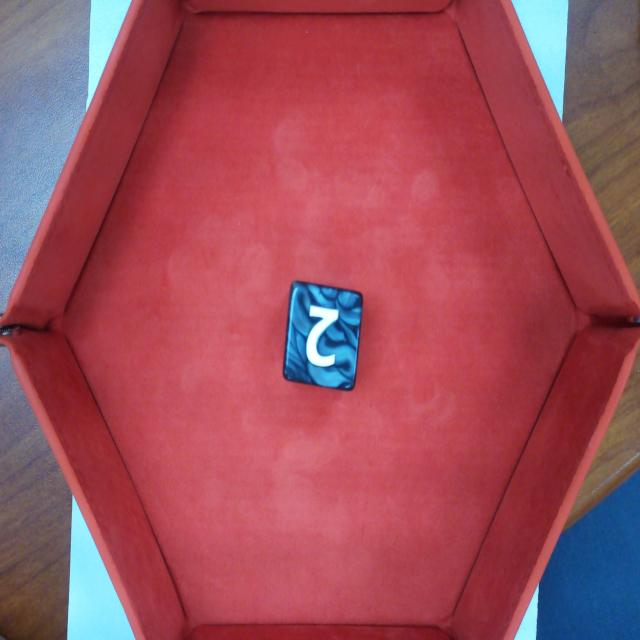dice: (281, 278, 365, 394)
